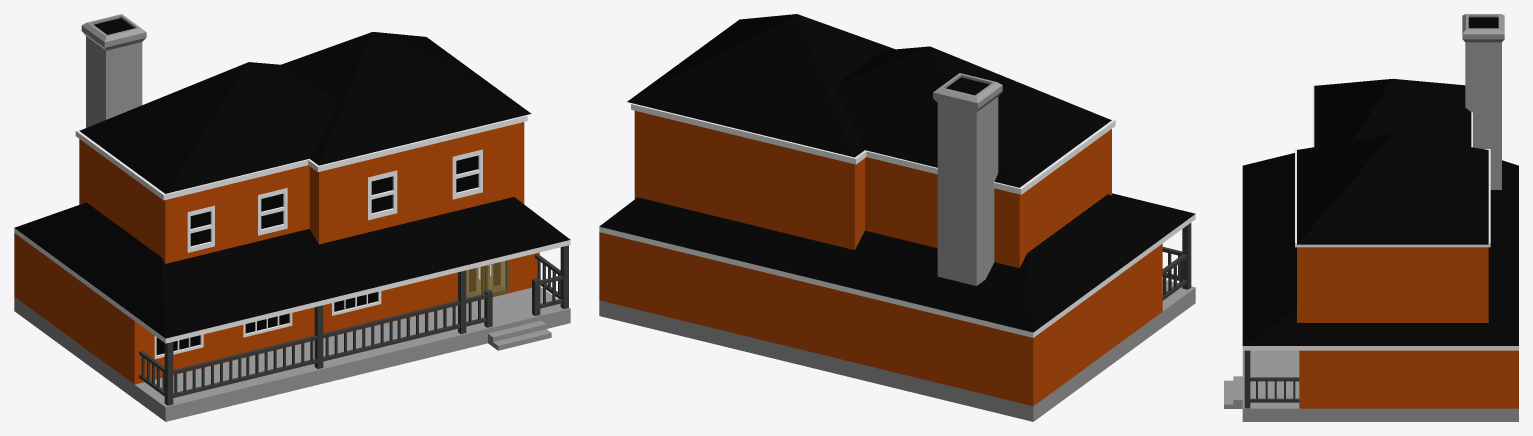
The model's file is House-06.fbx.
3 views of the same model, side by side, from view 1: azimuth 30°, elevation 25°; view 2: azimuth 150°, elevation 25°; view 3: azimuth 270°, elevation 25° (orthographic). The views are drawn at different scales.
Visible parts, largest first — view 1: House; view 2: House; view 3: House.
Part boxes in pixels (box(x1,y1,x2,y2)): House: box(14, 14, 570, 421); House: box(599, 14, 1195, 421); House: box(1224, 14, 1518, 421).
Size of what is drawn, in the model's own units: 19.96 by 13.2 by 13.79.
